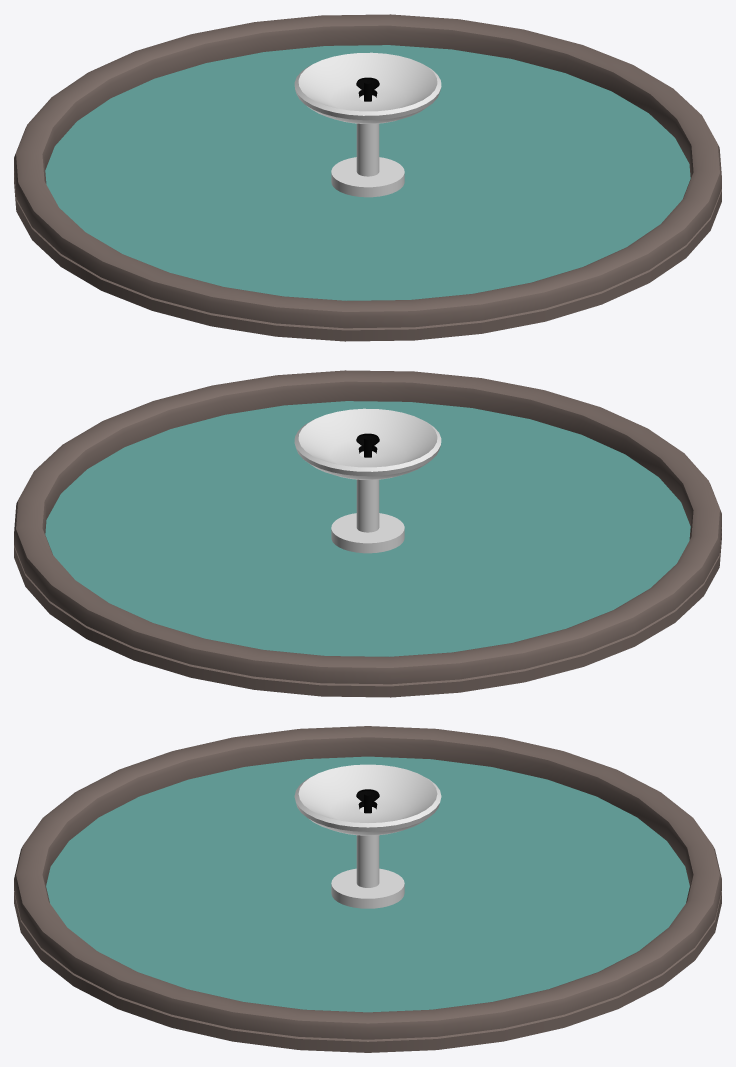
File: Fountain.glb
3 views of the same model, one above another, from view 1: azimuth 30°, elevation 25°; view 2: azimuth 150°, elevation 25°; view 3: azimuth 270°, elevation 25° (orthographic).
Parts seen in each view (by area): view 1: Circle; view 2: Circle; view 3: Circle.
Boxes of the visible parts, x1,y1,x2,y2 form: Circle: (14, 14, 721, 341); Circle: (14, 370, 721, 697); Circle: (14, 726, 721, 1052).
Size of the model in its own units: 5.33 by 0.9536 by 5.33.
